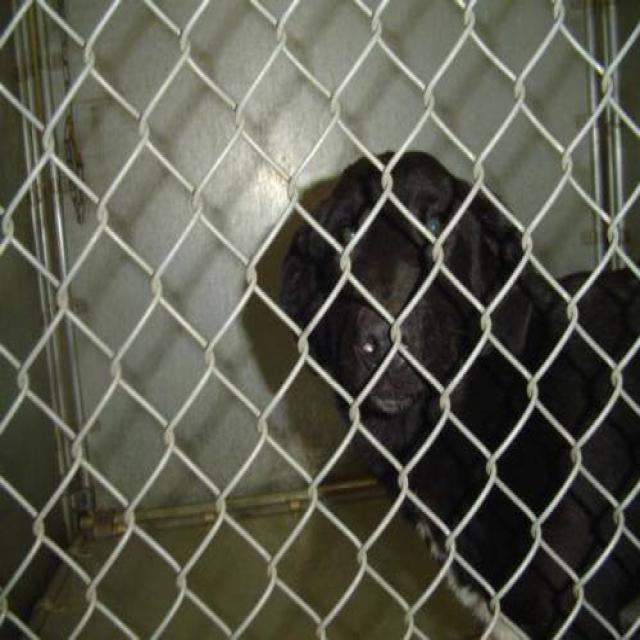dog: (278, 147, 639, 638)
